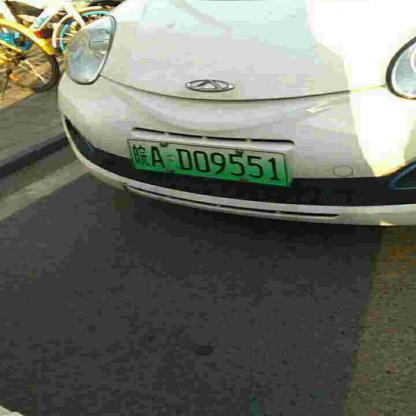lp: (126, 139, 287, 186)
